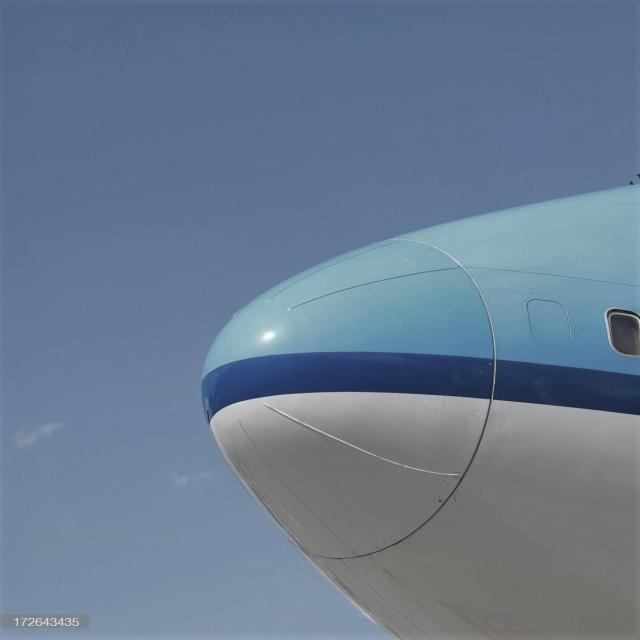Rupture: (451, 494, 460, 504)
